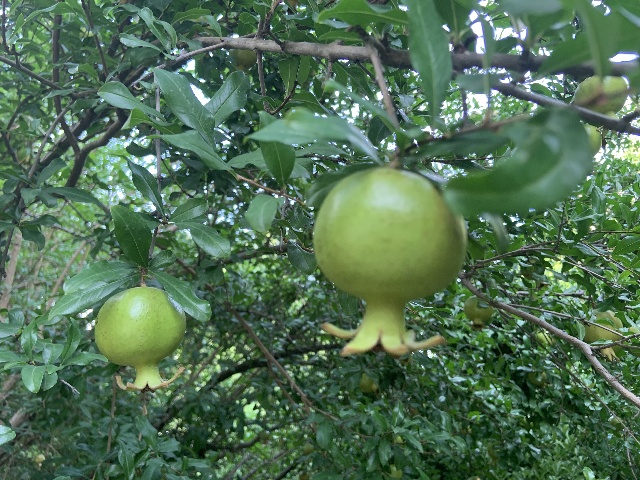mid-growth: (312, 167, 466, 358), (94, 285, 186, 392), (574, 75, 628, 139), (577, 308, 622, 361), (463, 295, 493, 331), (581, 123, 601, 156), (229, 48, 256, 72), (527, 370, 549, 391), (359, 373, 378, 395)
